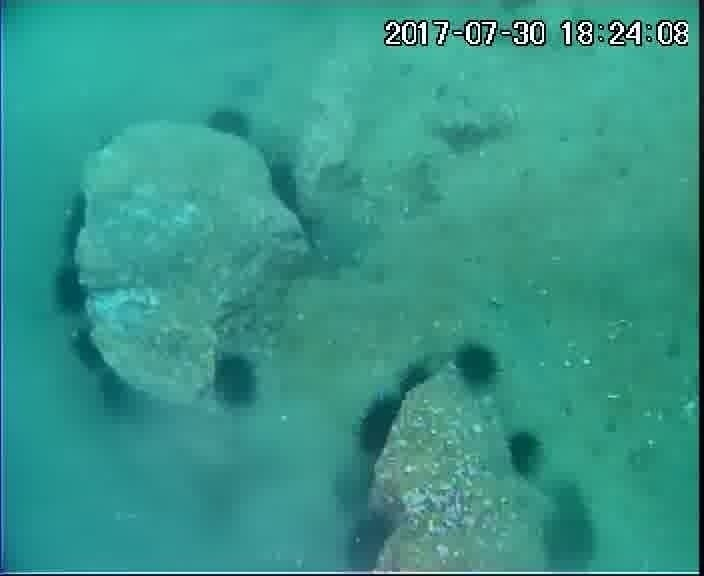echinus: (535, 483, 603, 572), (350, 391, 411, 464), (338, 507, 403, 572), (207, 349, 265, 415), (88, 365, 147, 425), (328, 461, 381, 518), (261, 156, 308, 220), (450, 339, 504, 394), (47, 260, 95, 321), (54, 191, 93, 263), (501, 427, 548, 482), (202, 103, 256, 148), (66, 326, 111, 380), (389, 359, 438, 405)
